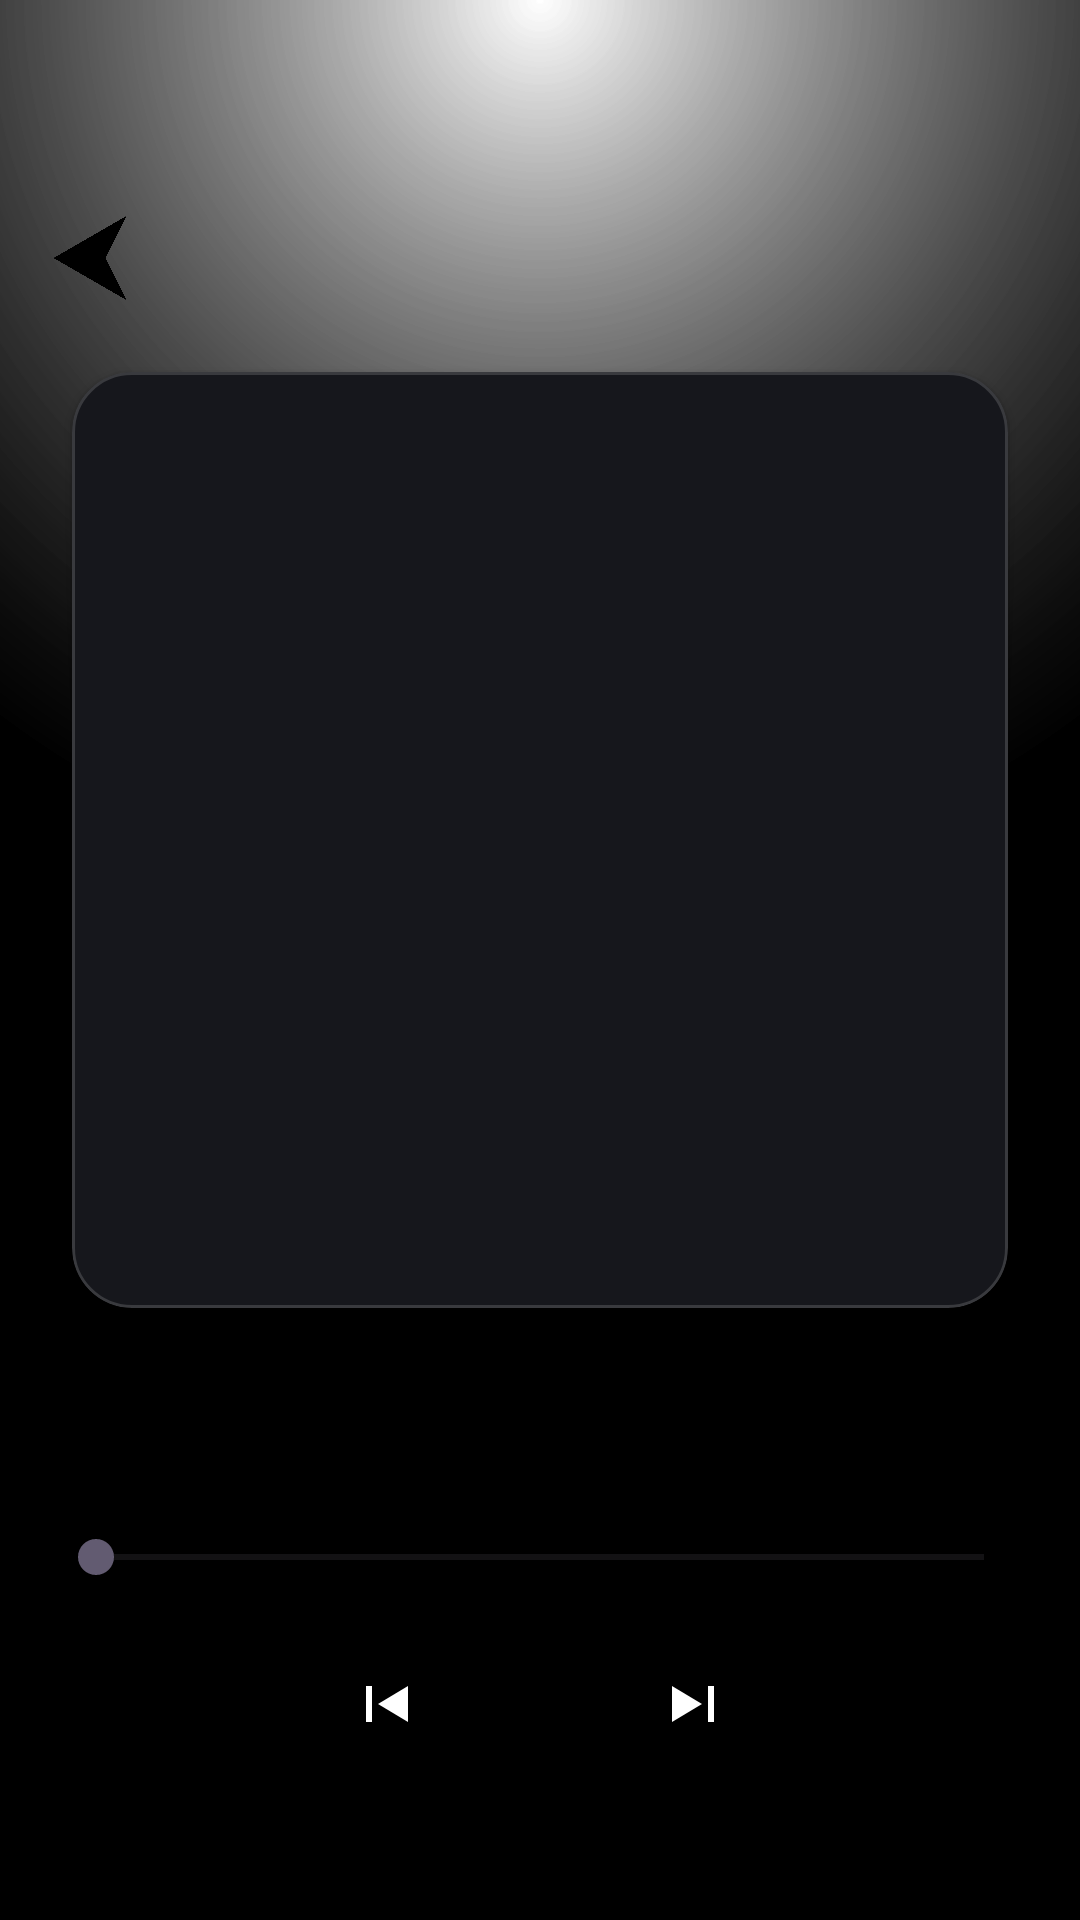

Screen size 1080x1920. Icon name, then its center in pixels as point (x, y):
Back: point (90, 258)
Next: point (693, 1704)
Previous: point (387, 1704)
